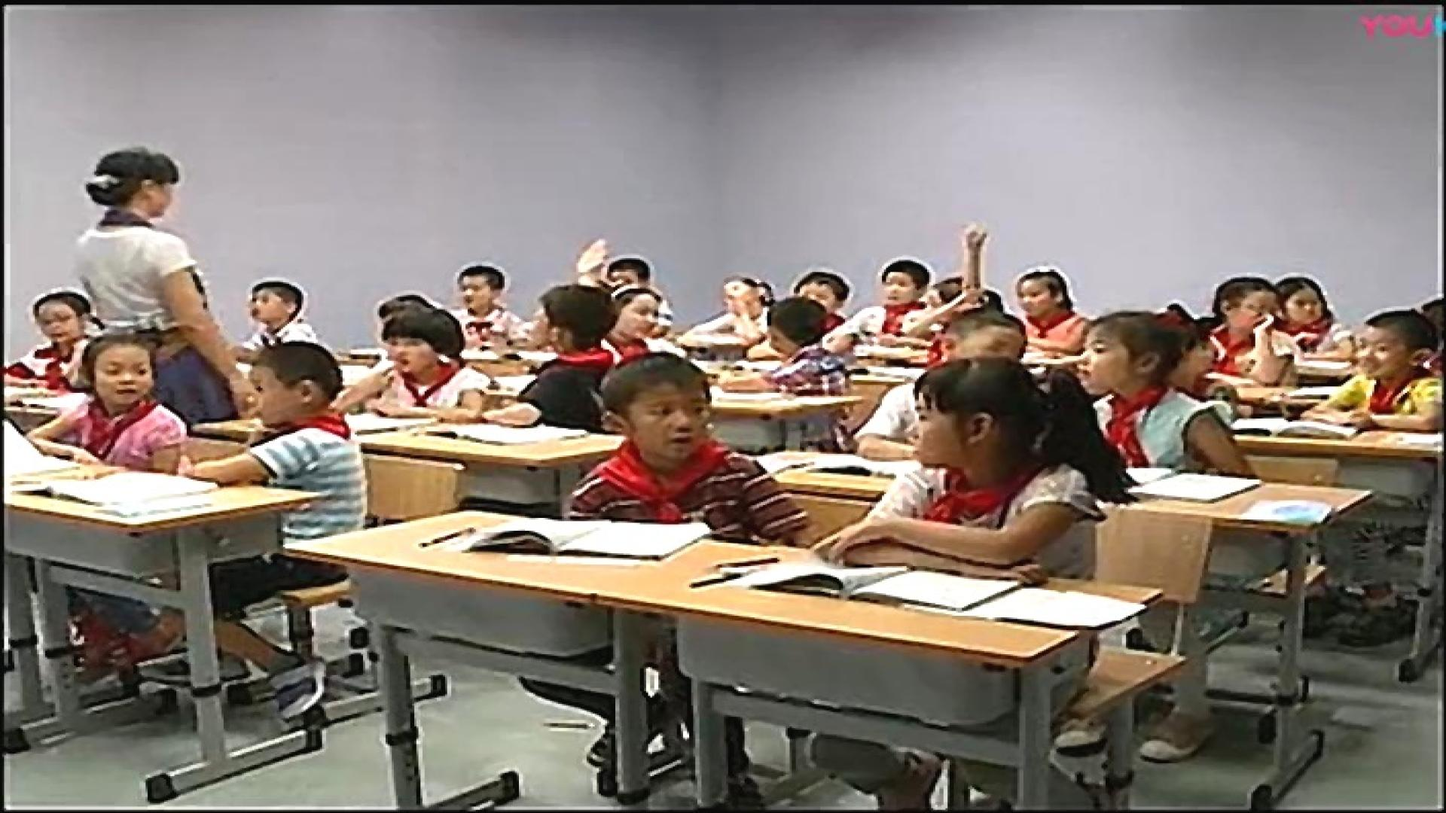Look Around: (609, 375, 741, 512), (926, 368, 1040, 515), (1052, 320, 1190, 408), (73, 336, 169, 456), (535, 299, 611, 416), (945, 308, 1026, 354)
Stand Up: (80, 143, 219, 338)
Wave: (956, 219, 995, 295)
